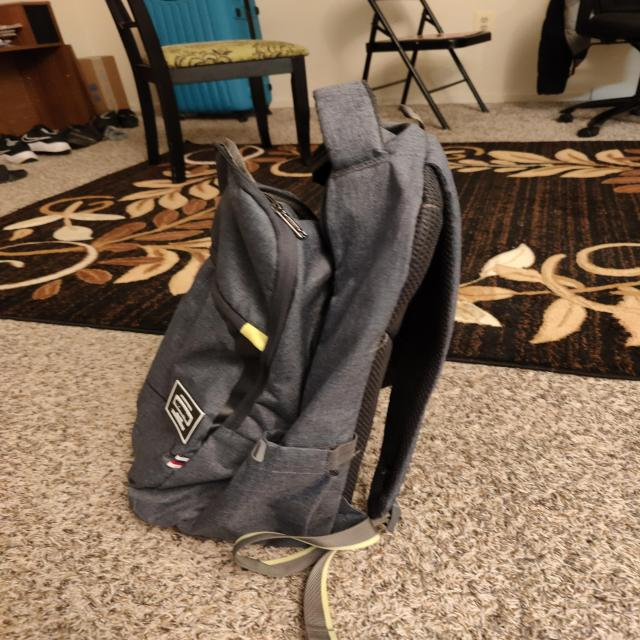bag: (232, 108, 401, 536)
